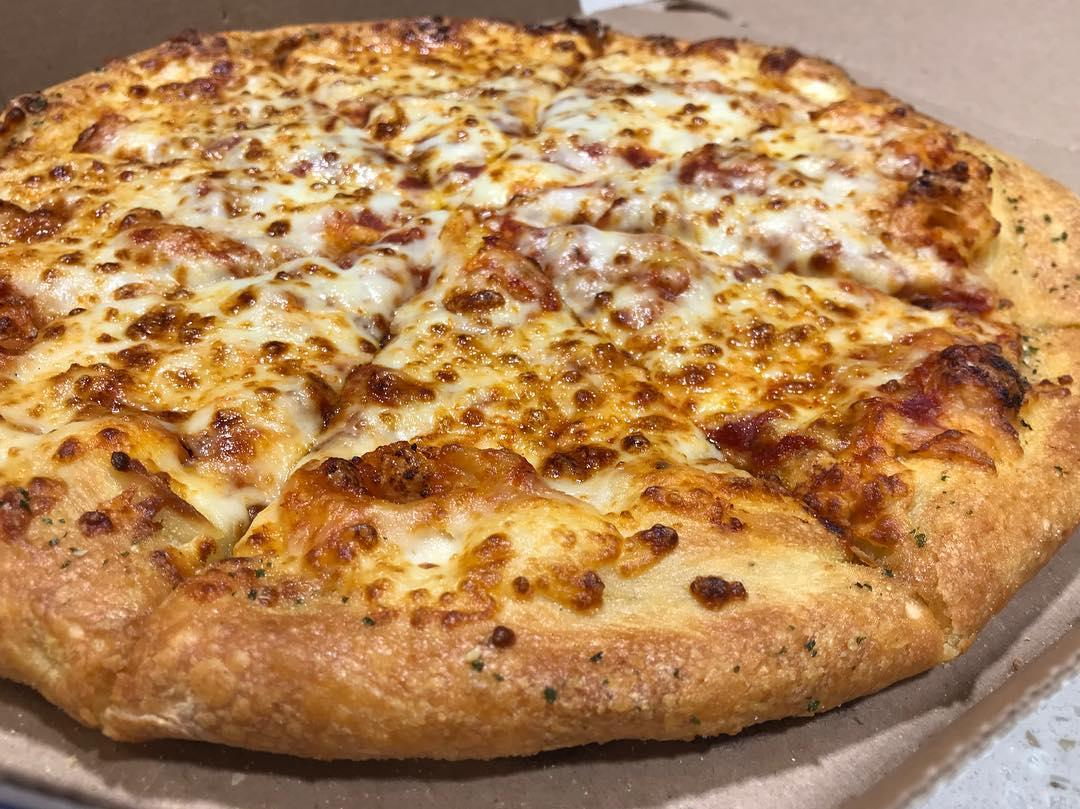Pizza: (0, 14, 1080, 769)
